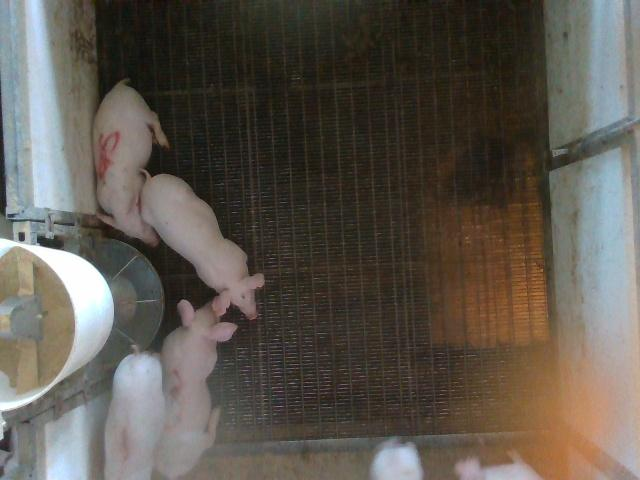pig-1: (105, 350, 165, 478)
pig-3: (155, 300, 236, 478)
pig-5: (94, 80, 169, 246)
